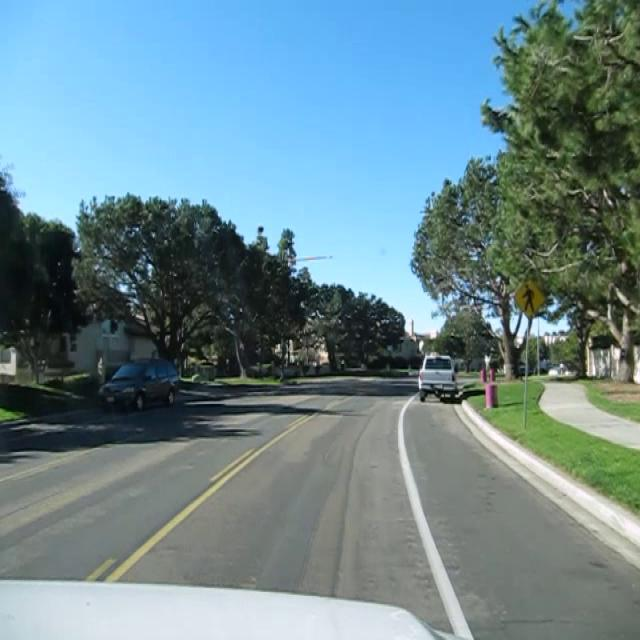pedestrianCrossing: (512, 275, 546, 320)
